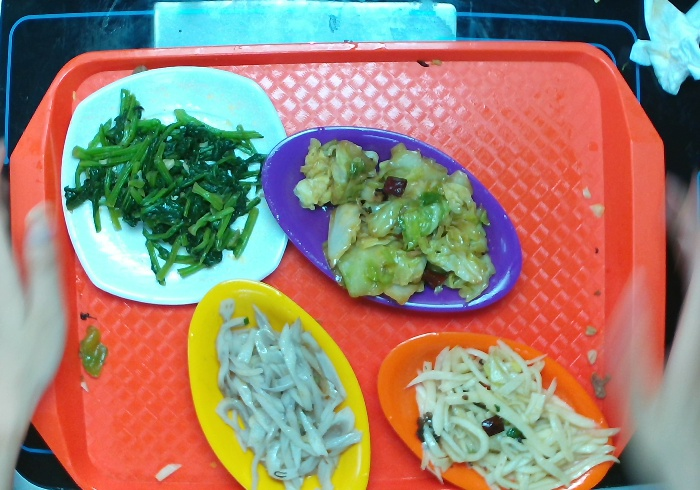RJxy-Fen_Hong_Tuo_Yuan: (263, 123, 527, 320)
RJxy-Huang_Se_Tuo_Yuan: (180, 275, 376, 487)
RJxy-Ju_Huang_Tuo_Yuan: (373, 328, 618, 486)
RJxy-Si_Fang_Die: (54, 58, 299, 307)
